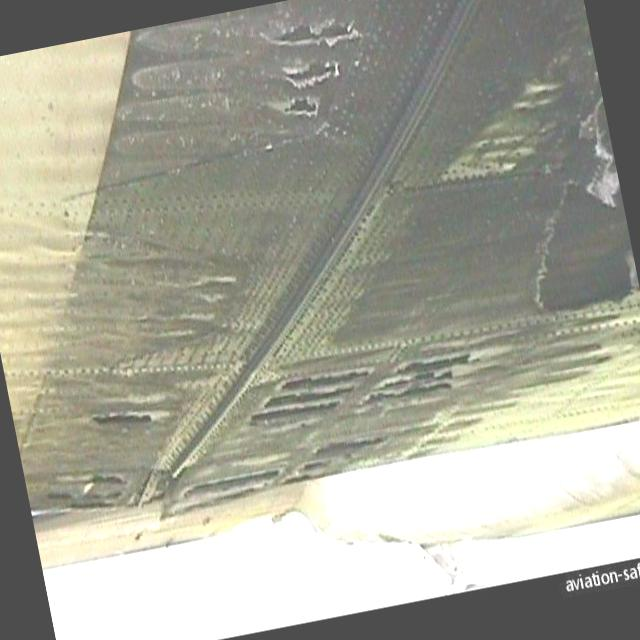crack: (252, 0, 382, 128)
